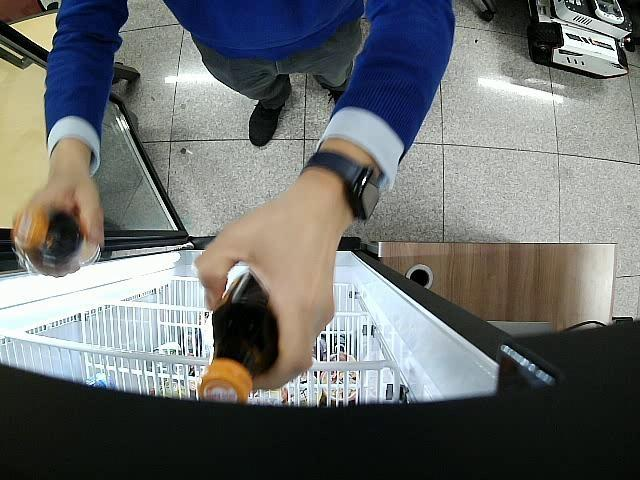17_vita500: (198, 268, 284, 404), (12, 207, 100, 276)
